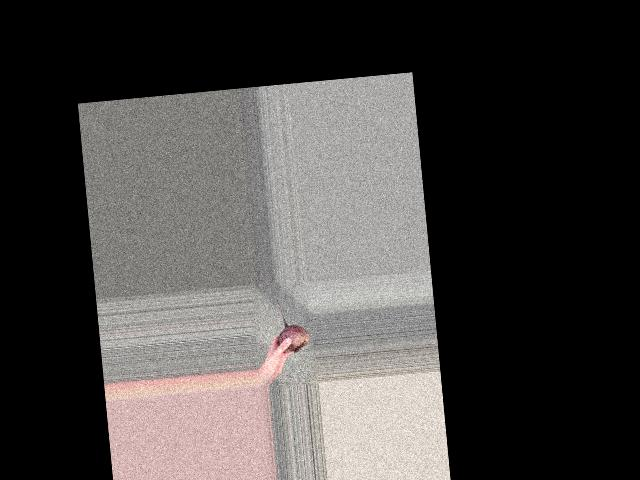beet: (275, 296, 310, 353)
